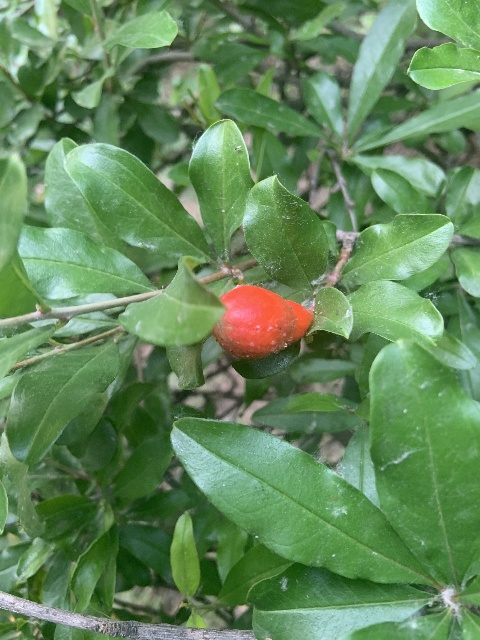bud: (213, 285, 314, 360)
